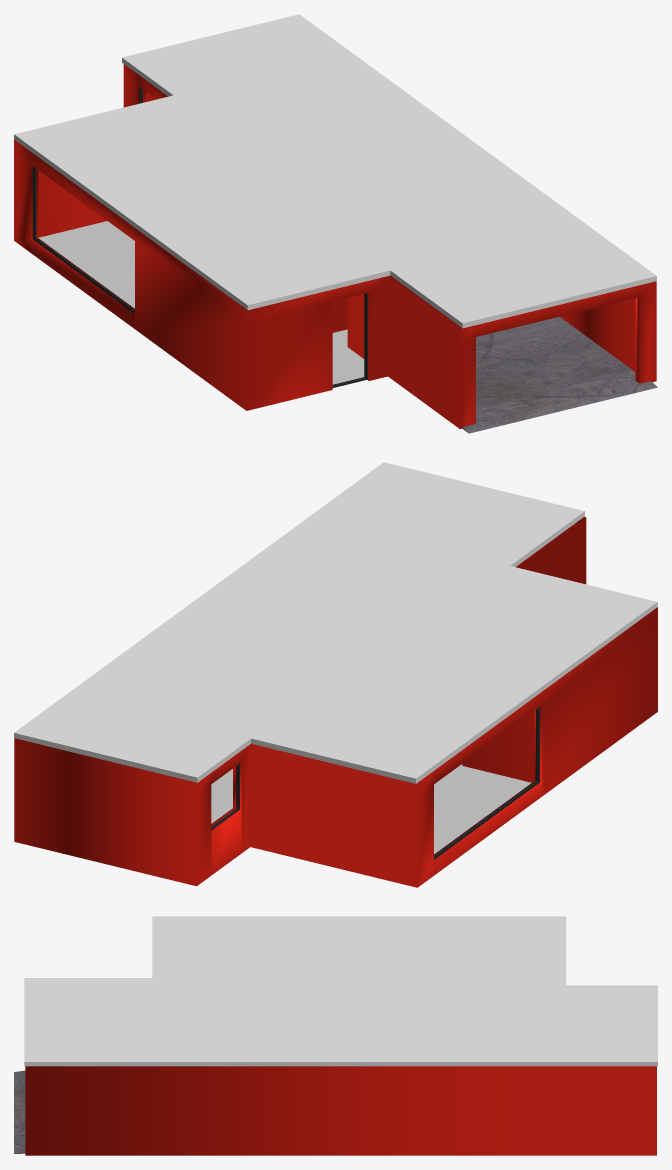
The model's file is MUDesignUnpack.fbx.
The picture shows the model from 3 angles, top to bottom: view 1: azimuth 30°, elevation 25°; view 2: azimuth 150°, elevation 25°; view 3: azimuth 270°, elevation 25°; orthographic projection. The views are drawn at different scales.
Parts seen in each view (by area): view 1: Cube, Walls, Ceiling.001, Ceiling.002, Ceiling; view 2: Cube, Walls, Ceiling.002, Ceiling; view 3: Cube, Walls, Ceiling.001.
Part boxes in pixels (bbox=[...]): Cube: bbox=[14, 14, 656, 328]; Walls: bbox=[14, 64, 656, 428]; Ceiling.001: bbox=[462, 316, 657, 433]; Ceiling.002: bbox=[38, 221, 364, 384]; Ceiling: bbox=[32, 87, 367, 387]; Cube: bbox=[14, 462, 657, 783]; Walls: bbox=[14, 517, 657, 887]; Ceiling.002: bbox=[211, 764, 531, 853]; Ceiling: bbox=[211, 707, 539, 859]; Cube: bbox=[24, 916, 657, 1066]; Walls: bbox=[25, 1066, 656, 1155]; Ceiling.001: bbox=[14, 1070, 25, 1153].
Size of the model in its own units: 841 by 253 by 1567.
